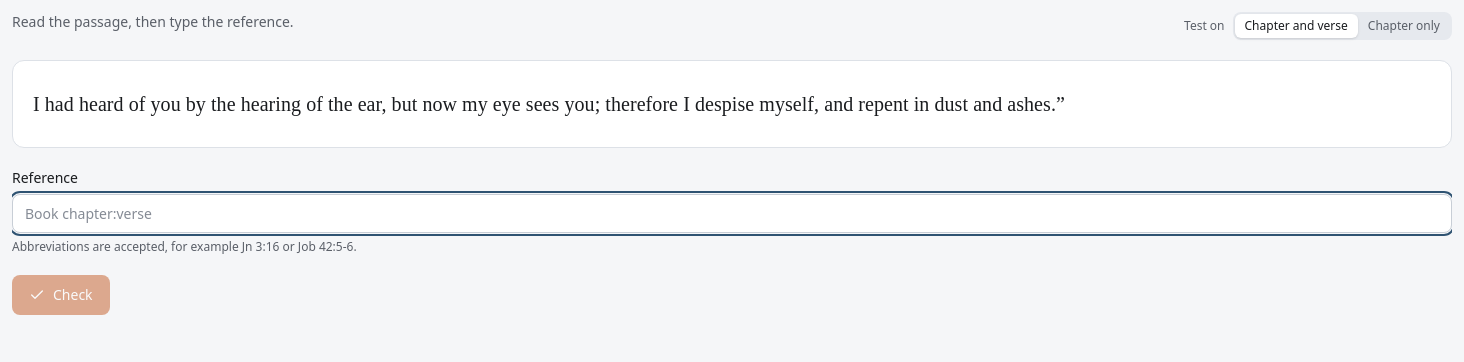
Test: QuizReferenceMode › rejects a different verse range in the same chapter
The width and height of the screenshot is (1464, 362).
Type "Job 42:8-9" into the field labelled "Reference".
click(732, 214); type("Job 42:8-9")  # box left=12, top=194, right=1452, bottom=233
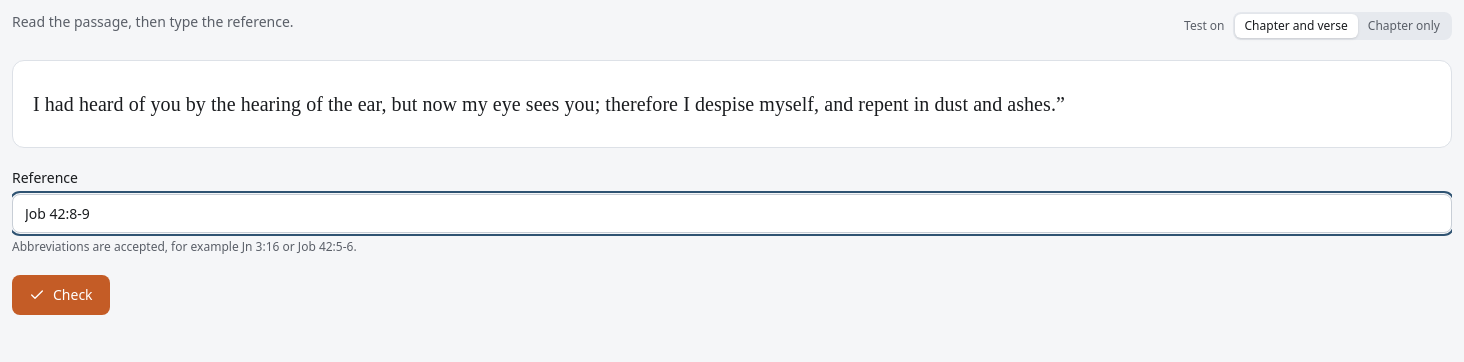
Click the button "Check".
click(61, 295)  # box left=12, top=275, right=110, bottom=315
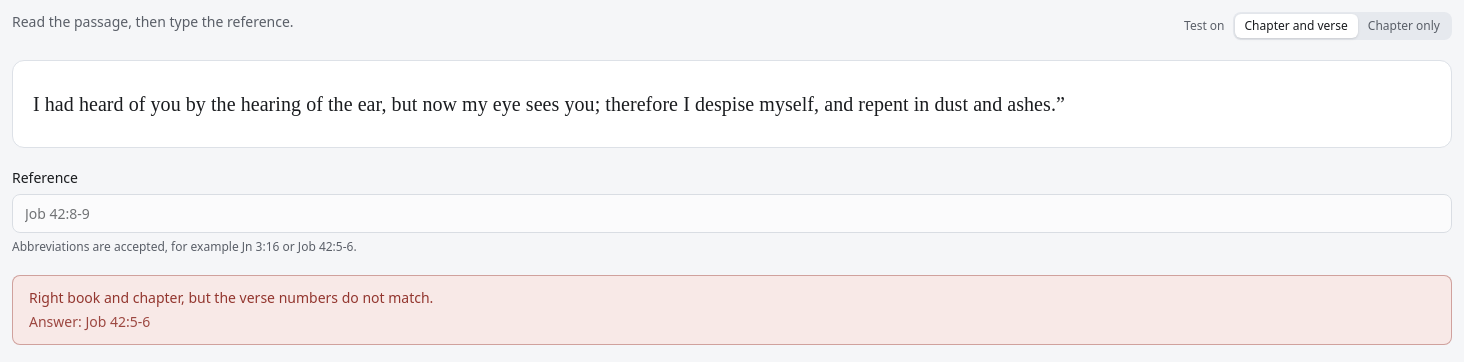
expect the message shows "verse numbers": met, box left=29, top=288, right=433, bottom=307
expect the message shows "Job 42:5-6": met, box left=85, top=312, right=150, bottom=331
